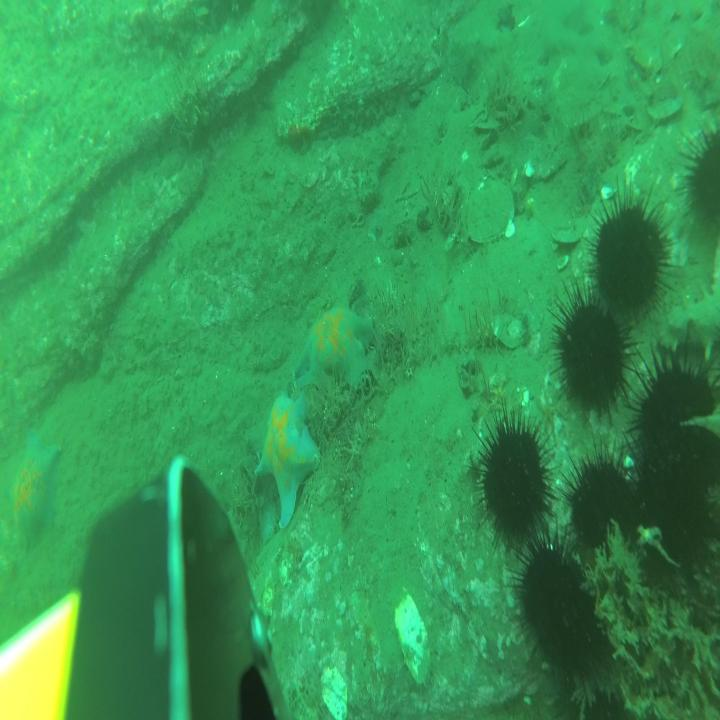echinus: (466, 400, 556, 563), (552, 279, 642, 429), (632, 330, 720, 473), (590, 179, 676, 323), (634, 438, 720, 576), (519, 537, 593, 668), (564, 438, 634, 572), (560, 633, 629, 720), (680, 118, 720, 247)
holothurian: (658, 237, 720, 362)
scallop: (465, 181, 515, 244), (493, 312, 524, 349)
starfish: (254, 391, 320, 530), (295, 305, 376, 402), (11, 421, 61, 548)
